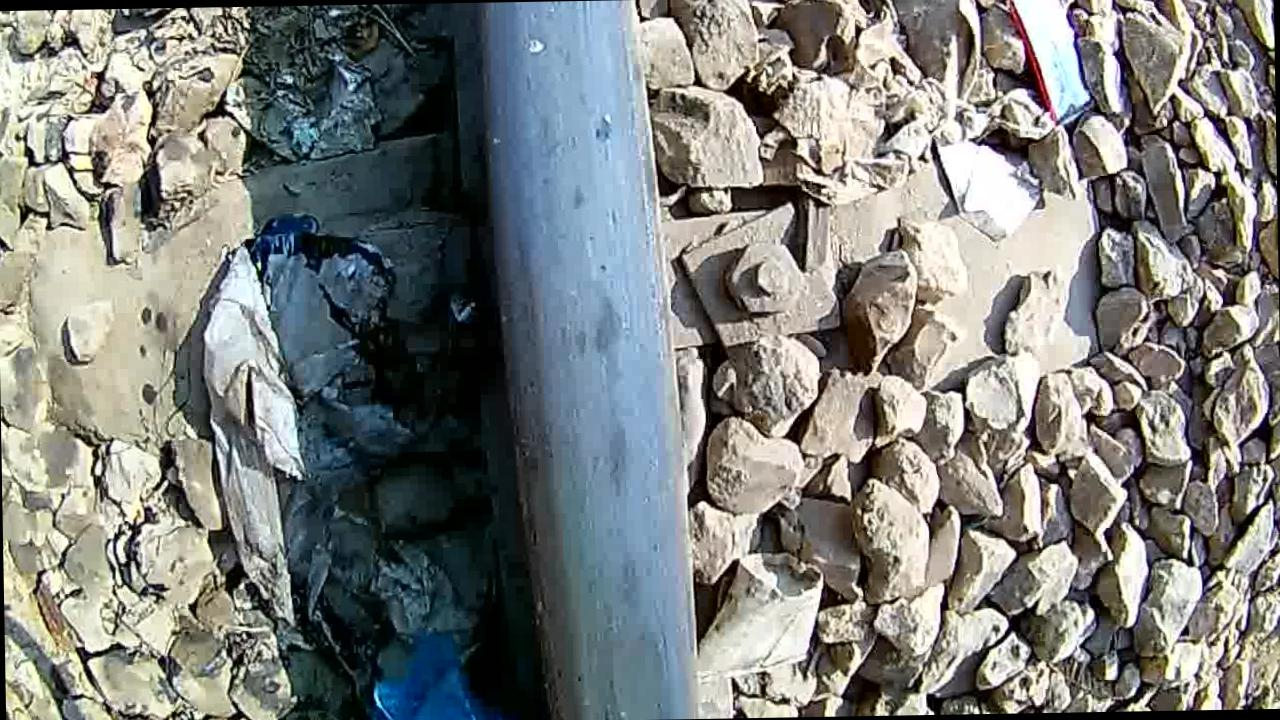bolt_missing: (490, 102, 711, 720)
